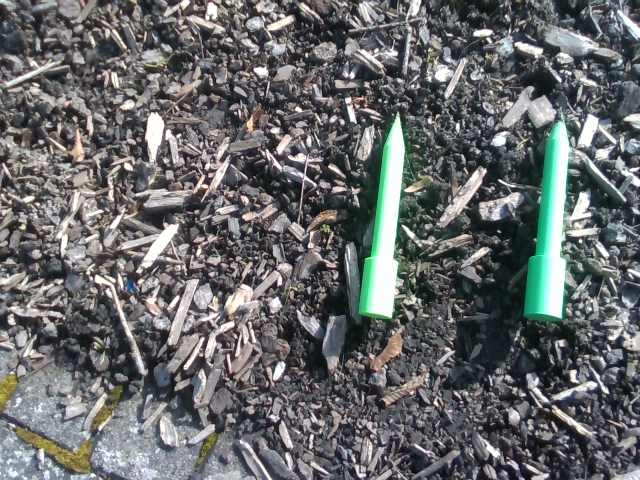Probe: (512, 98, 571, 331), (353, 104, 409, 334)
